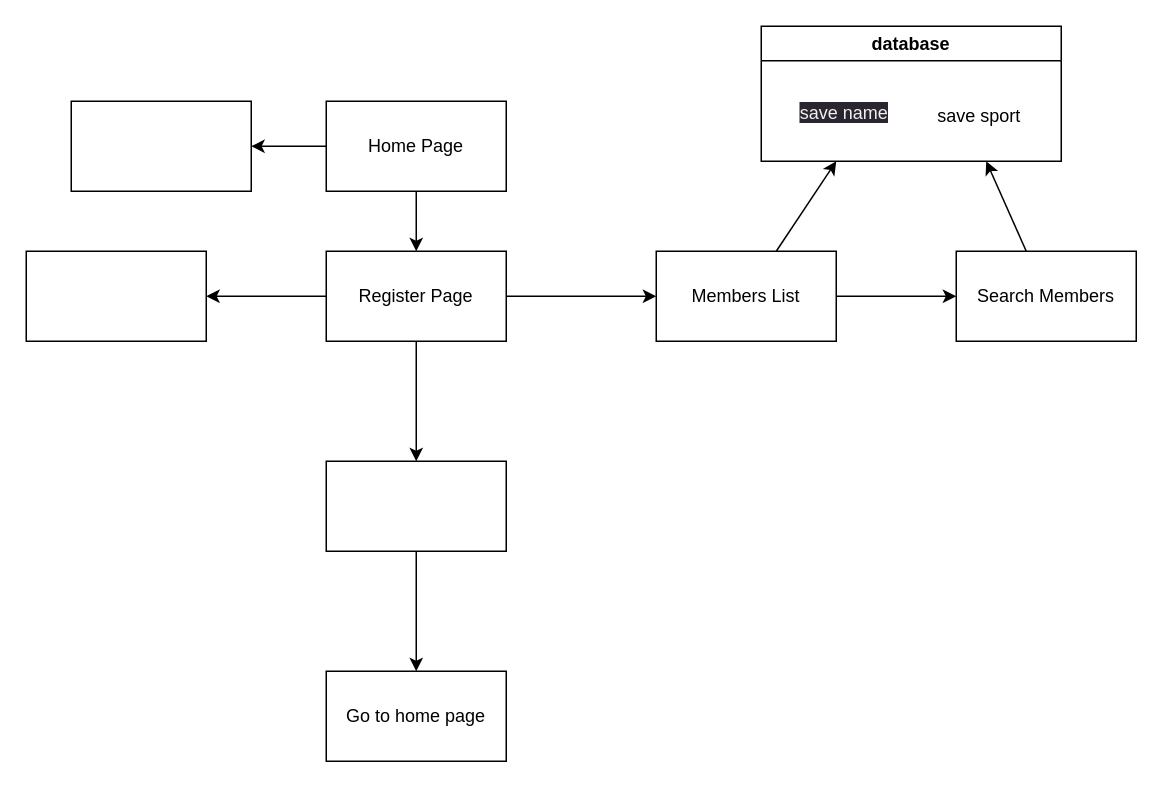
This 1163x788 diagram has some shape labels left out. Here are the shapes that lost their labels. From the top down, the centre of each, then its label:
At (x=160, y=145): "About Page".
At (x=115, y=295): "Register Failure".
At (x=415, y=505): "Register Confirmation".
